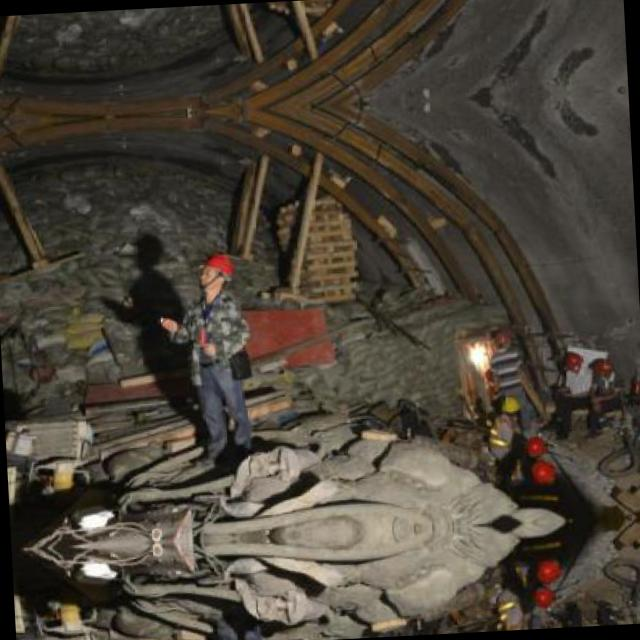helmet: (196, 246, 238, 294), (526, 457, 560, 485), (532, 556, 566, 584), (556, 348, 584, 374), (522, 432, 550, 458), (530, 584, 558, 610), (498, 390, 520, 421), (590, 354, 616, 380), (490, 326, 514, 346)
